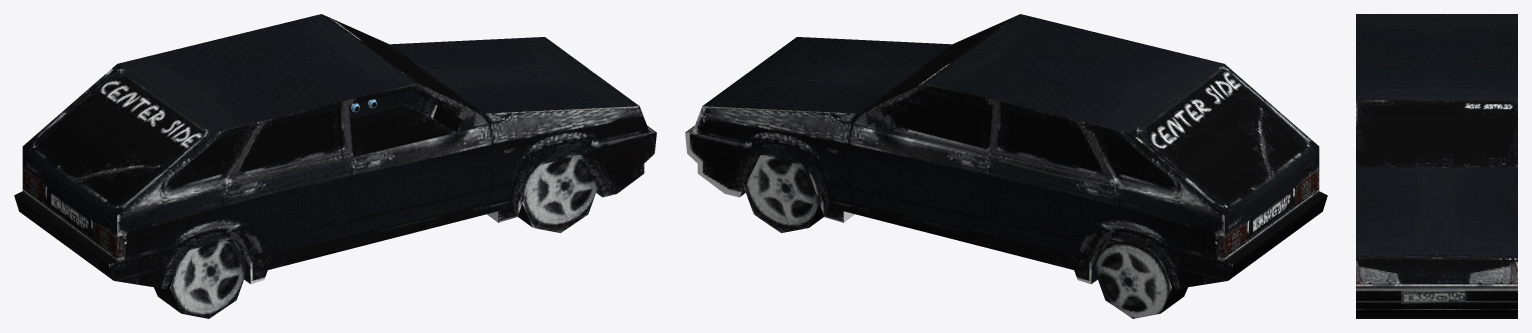
File: car.fbx
3 views of the same model, side by side, from view 1: azimuth 30°, elevation 25°; view 2: azimuth 150°, elevation 25°; view 3: azimuth 270°, elevation 25° (orthographic). The views are drawn at different scales.
Parts seen in each view (by area): view 1: Cube, Cylinder.002, Cylinder.001, Cube.002; view 2: Cube, Cube.001, Cylinder.001, Cylinder.002; view 3: Cube.
Boxes of the visible parts, box(x1,y1,x2,y2) form: Cube: box(14, 14, 656, 288); Cylinder.002: box(433, 106, 597, 232); Cylinder.001: box(154, 239, 247, 318); Cube.002: box(350, 104, 456, 156); Cube: box(685, 14, 1327, 288); Cube.001: box(866, 90, 992, 156); Cylinder.001: box(1094, 239, 1187, 318); Cylinder.002: box(744, 132, 888, 232); Cube: box(1356, 14, 1517, 318).
Size of the model in its own units: 715 by 231 by 214.
